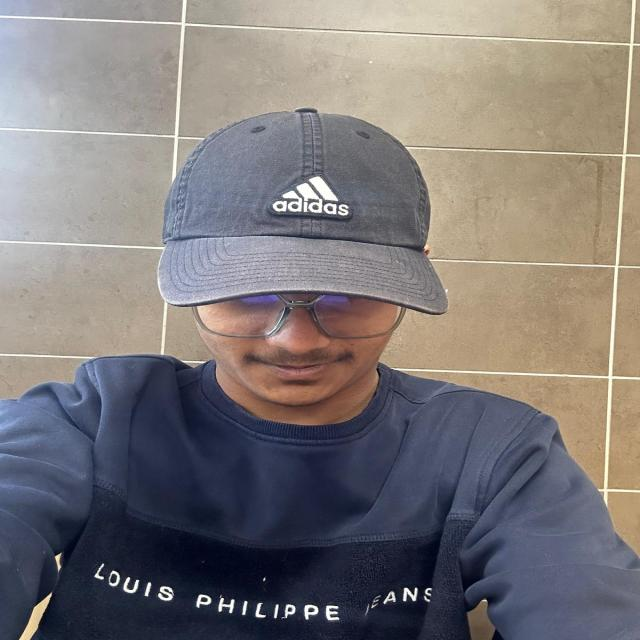cap: (146, 98, 466, 323)
